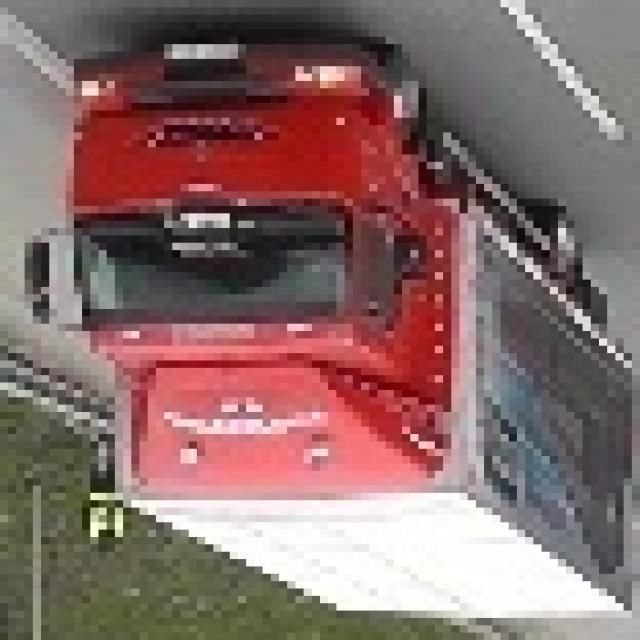truck: (33, 44, 640, 625)
